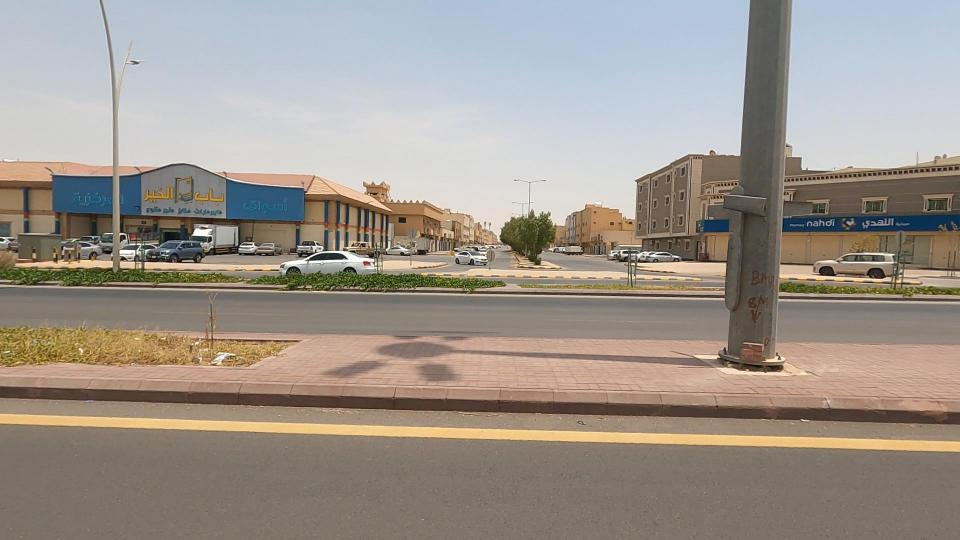GARBAGE: (156, 316, 266, 387), (714, 319, 786, 387)
